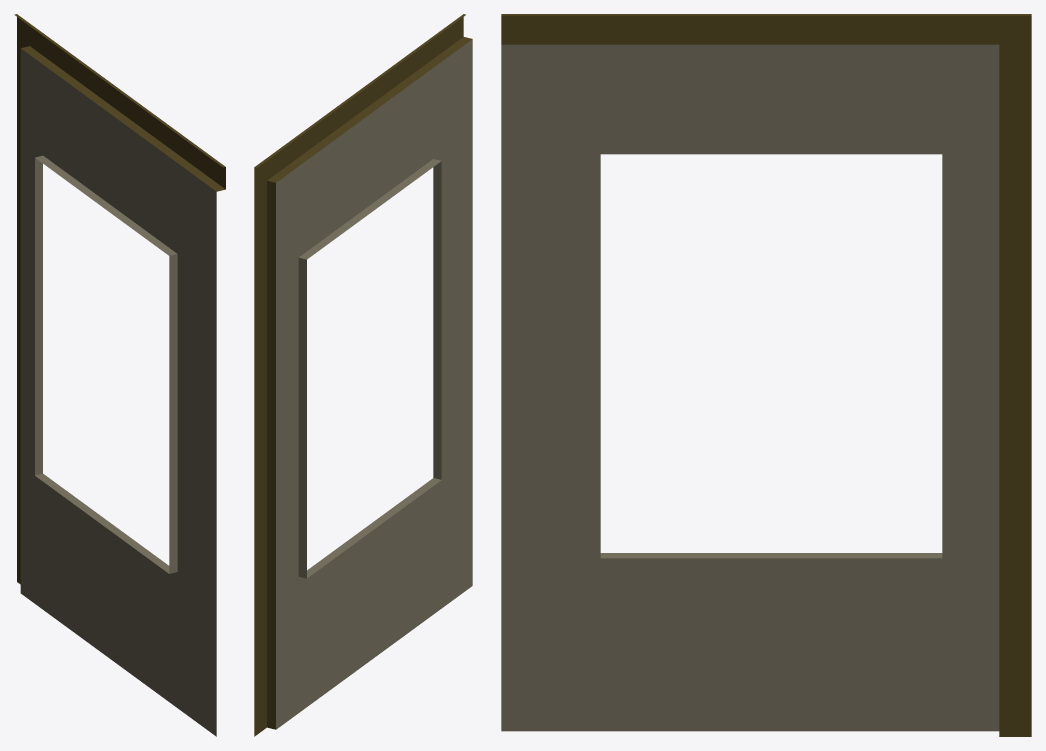
File: GB_Floor1_SideWindow.fbx
3 renders of one model, left to right at view 1: azimuth 30°, elevation 25°; view 2: azimuth 150°, elevation 25°; view 3: azimuth 270°, elevation 25°, orthographic. The views are drawn at different scales.
Parts seen in each view (by area): view 1: OneWindow6; view 2: OneWindow6; view 3: OneWindow6.
Part boxes in pixels (bbox=[...]): OneWindow6: bbox=[14, 14, 225, 736]; OneWindow6: bbox=[254, 14, 472, 736]; OneWindow6: bbox=[501, 14, 1031, 736].
Bounding box in the file's own units: 0.0961 × 3 × 2.
